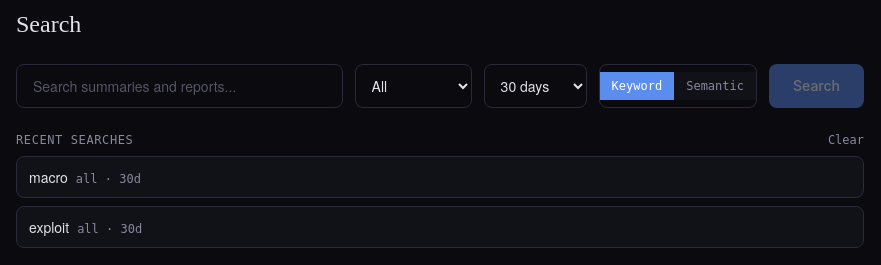
Test case: Search › renders an unusual activity preview ahead of macro alerts on report hits when no active chain preview is present
The image size is (881, 265).
Type "copy trade" into the field with placeholder "Search summaries and reports..." at (179, 86), box [16,64,343,108]
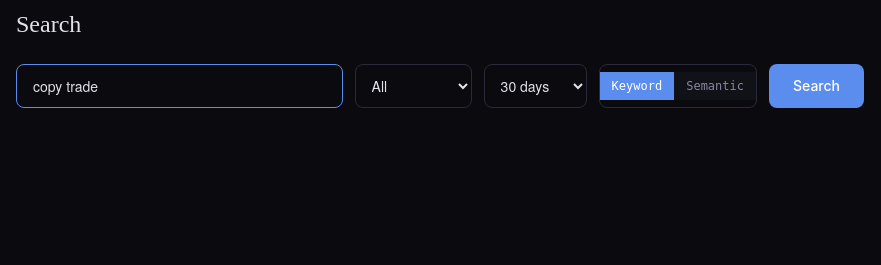
Click the button "Search" at (816, 86), box [769,64,864,108]
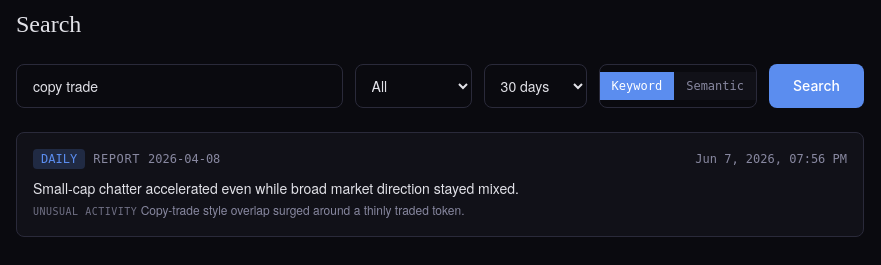
Now the text "Unusual Activity" is shown, box [33,206,137,217]
Now the text "Copy-trade style overlap surged around a thinly traded token." is shown, box [141,201,464,218]
